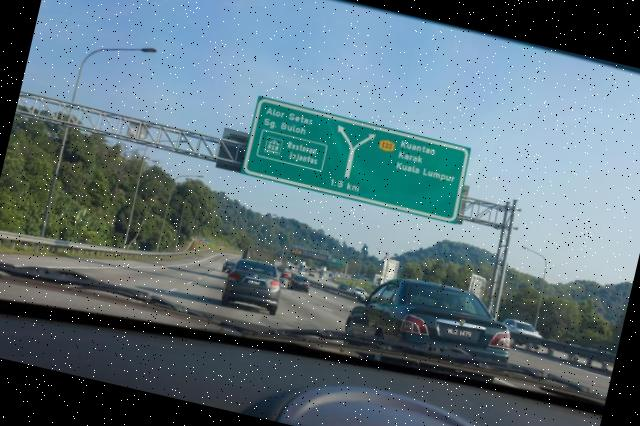License_Plate: (442, 322, 480, 345), (244, 277, 264, 288)
car: (346, 268, 522, 387), (222, 255, 287, 317)
